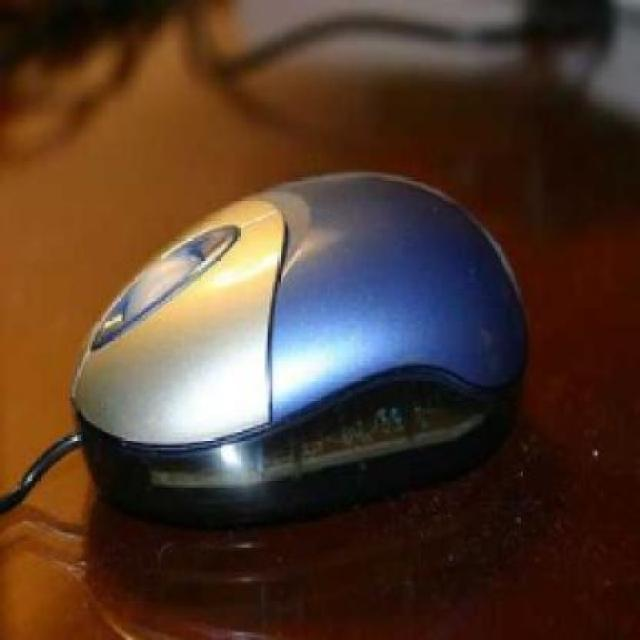mause: (30, 135, 598, 588)
